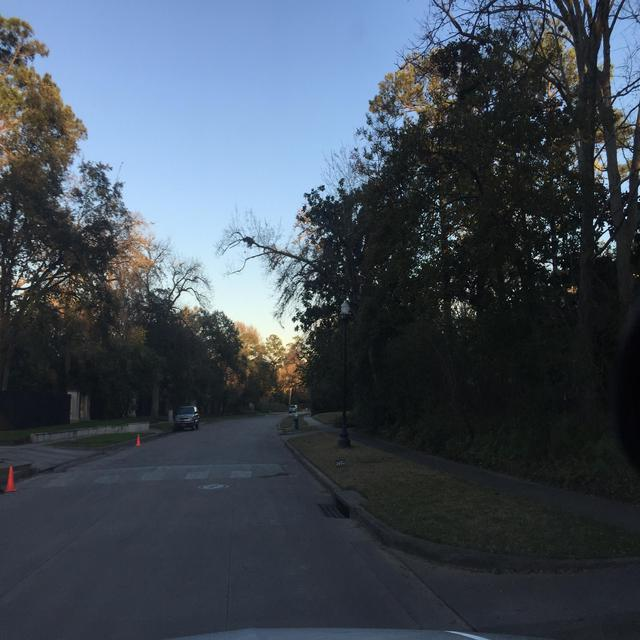Car: (174, 405, 199, 430), (289, 404, 296, 413)
Manhole: (196, 482, 229, 488)
Vegetation: (332, 416, 341, 429)
